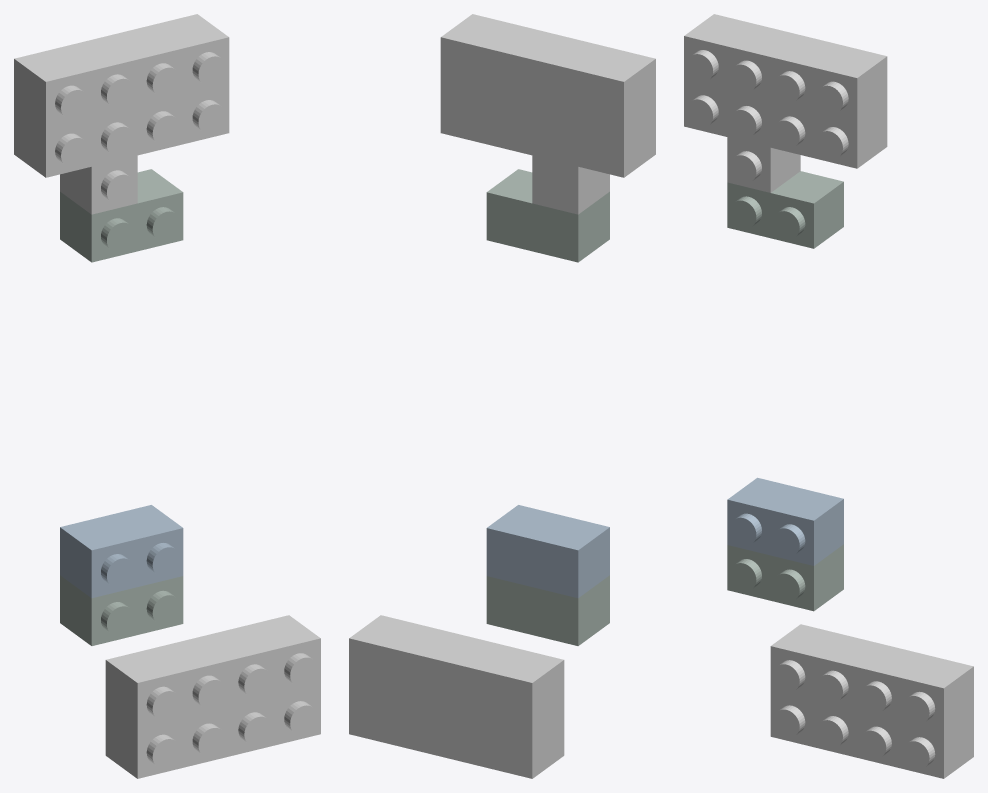
The model's file is current.glb.
3 renders of one model, left to right at view 1: azimuth 30°, elevation 25°; view 2: azimuth 150°, elevation 25°; view 3: azimuth 330°, elevation 25°, orthographic. The views are drawn at different scales.
Parts seen in each view (by area): view 1: world; view 2: world; view 3: world.
Boxes of the visible parts, x1,y1,x2,y2 form: world: [14, 14, 320, 778]; world: [349, 14, 655, 778]; world: [684, 14, 973, 778].
Bounding box in the file's own units: 48 × 120 × 11.4.
